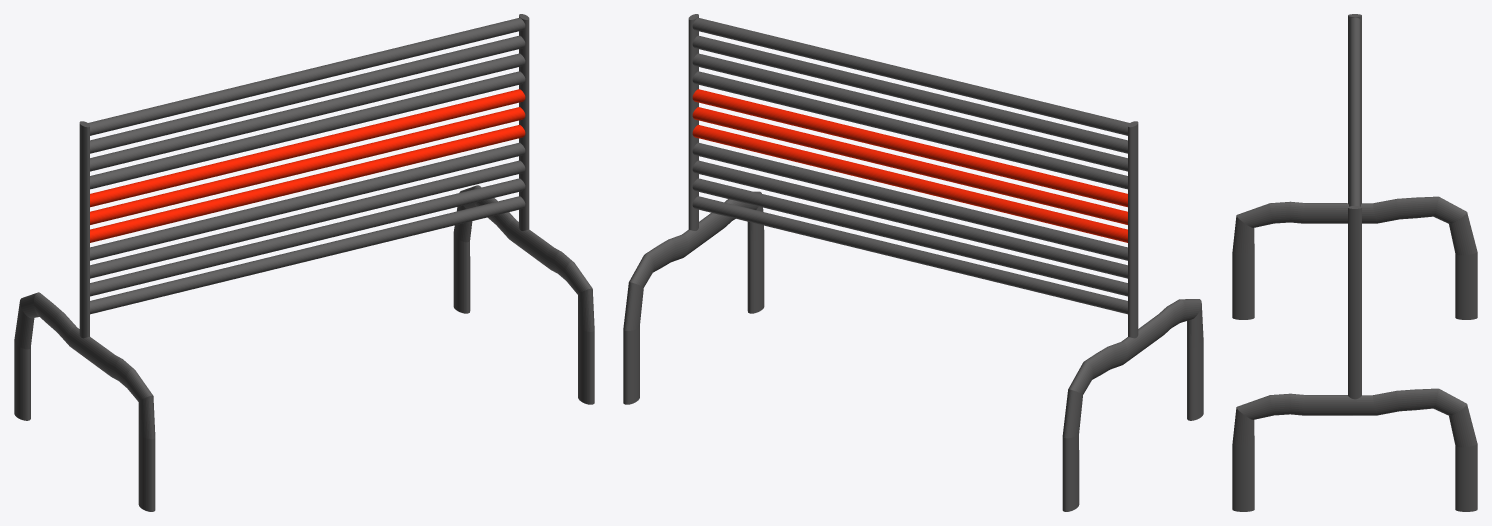
File: Barracade Metal.fbx
The picture shows the model from 3 angles, left to right: view 1: azimuth 30°, elevation 25°; view 2: azimuth 150°, elevation 25°; view 3: azimuth 270°, elevation 25°; orthographic projection. The views are drawn at different scales.
Parts seen in each view (by area): view 1: Barracade Metal; view 2: Barracade Metal; view 3: Barracade Metal.
Part boxes in pixels (<box>): Barracade Metal: <box>14,14,594,511</box>; Barracade Metal: <box>623,14,1203,511</box>; Barracade Metal: <box>1232,14,1477,511</box>.
Size of the model in its own units: 418 by 299 by 220.
